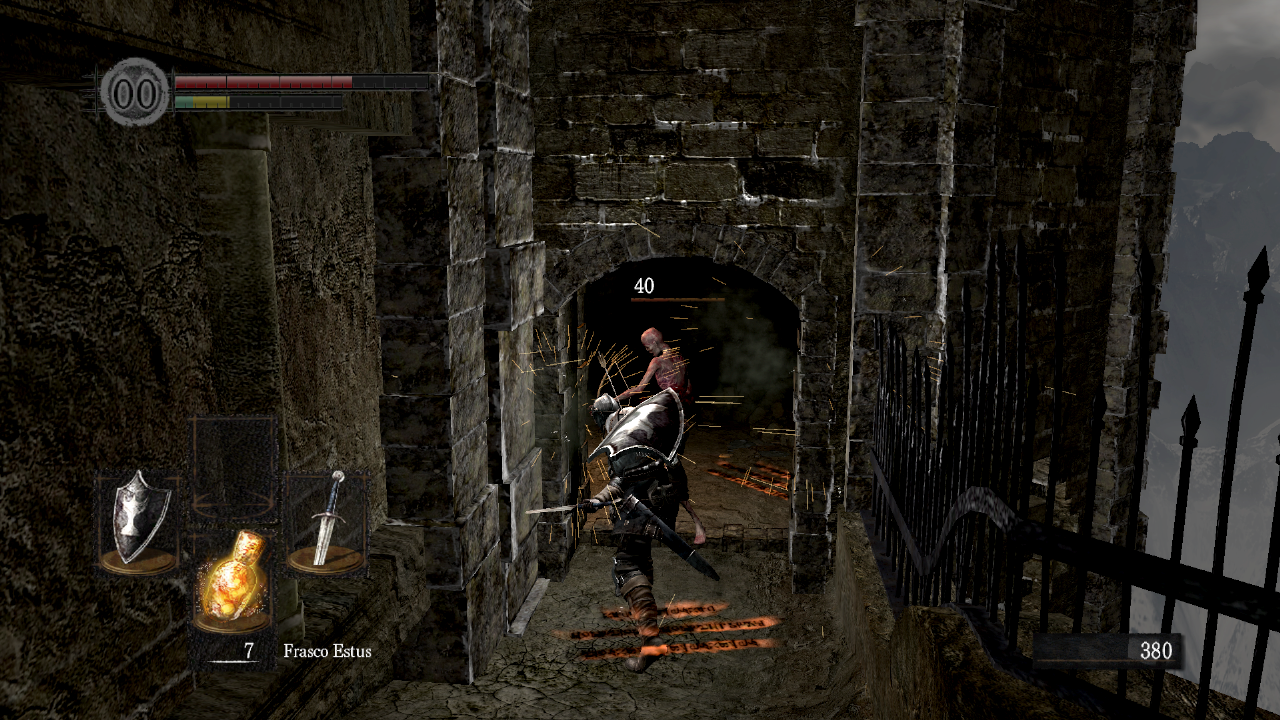hollow: (596, 327, 707, 545)
player: (526, 386, 721, 673)
